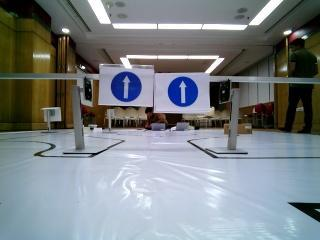straight: (156, 72, 207, 112), (99, 65, 150, 102)
